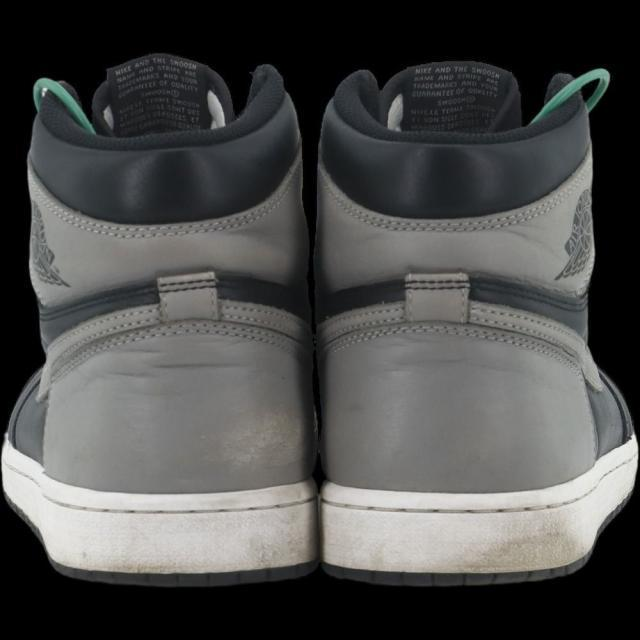nike original jordan 1: (315, 55, 640, 592), (0, 49, 315, 592)
